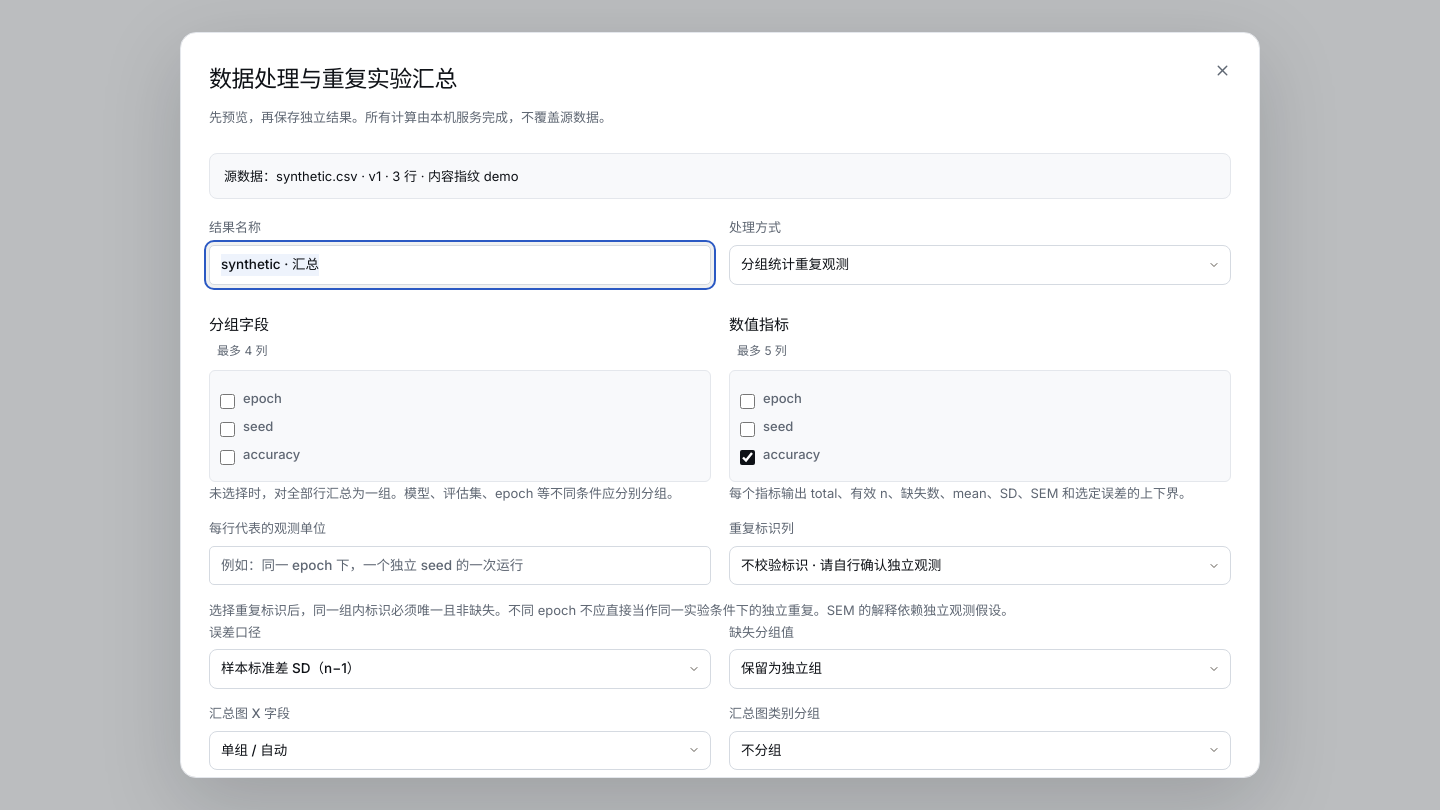
processing and chart contracts › displays parser/service errors without enabling save
Type "seed" into the field labelled "每行代表的观测单位" at {"x": 460, "y": 566}, box [209,546,711,585]
(page scrolled)
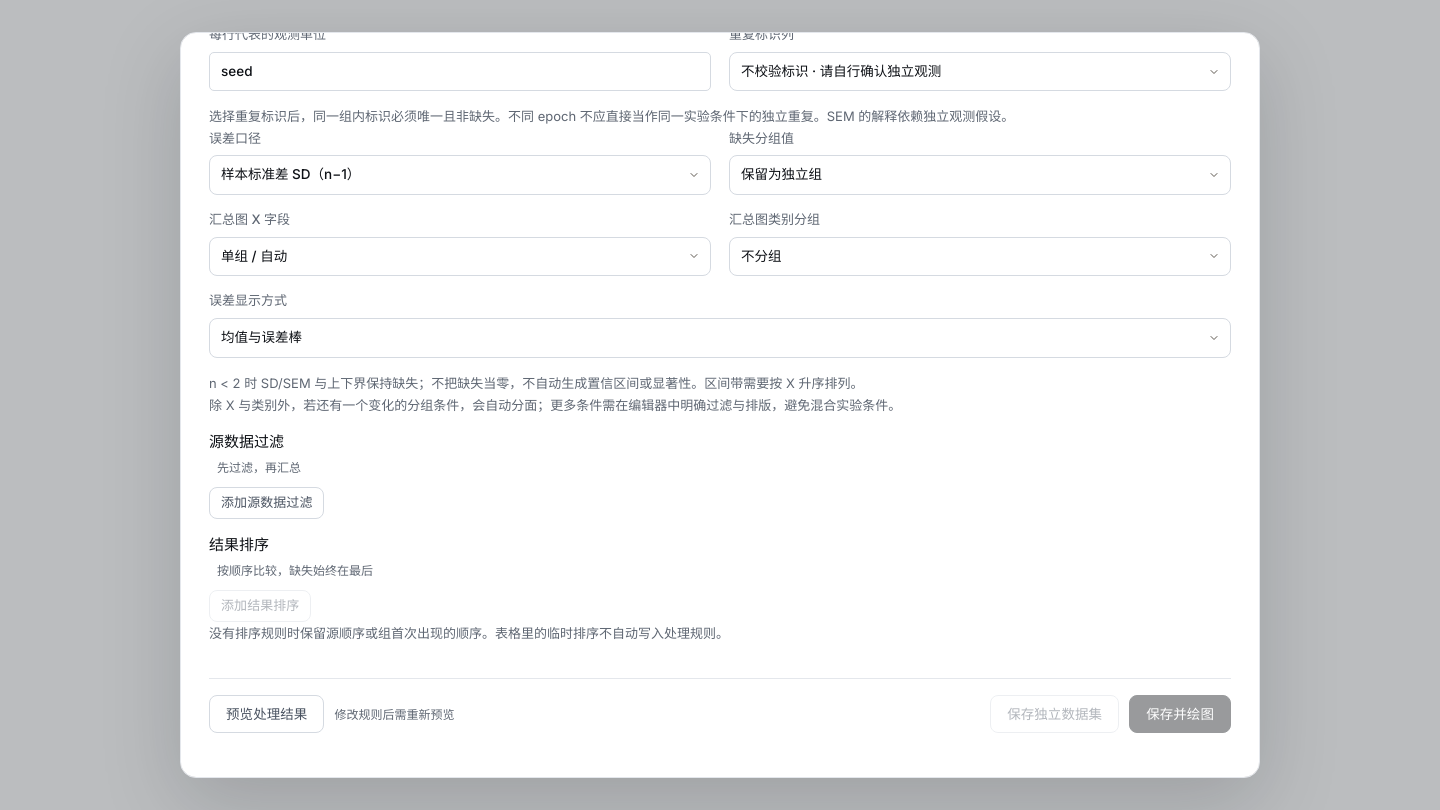
Click the button "预览处理结果" at {"x": 267, "y": 714}, box [209,695,324,733]
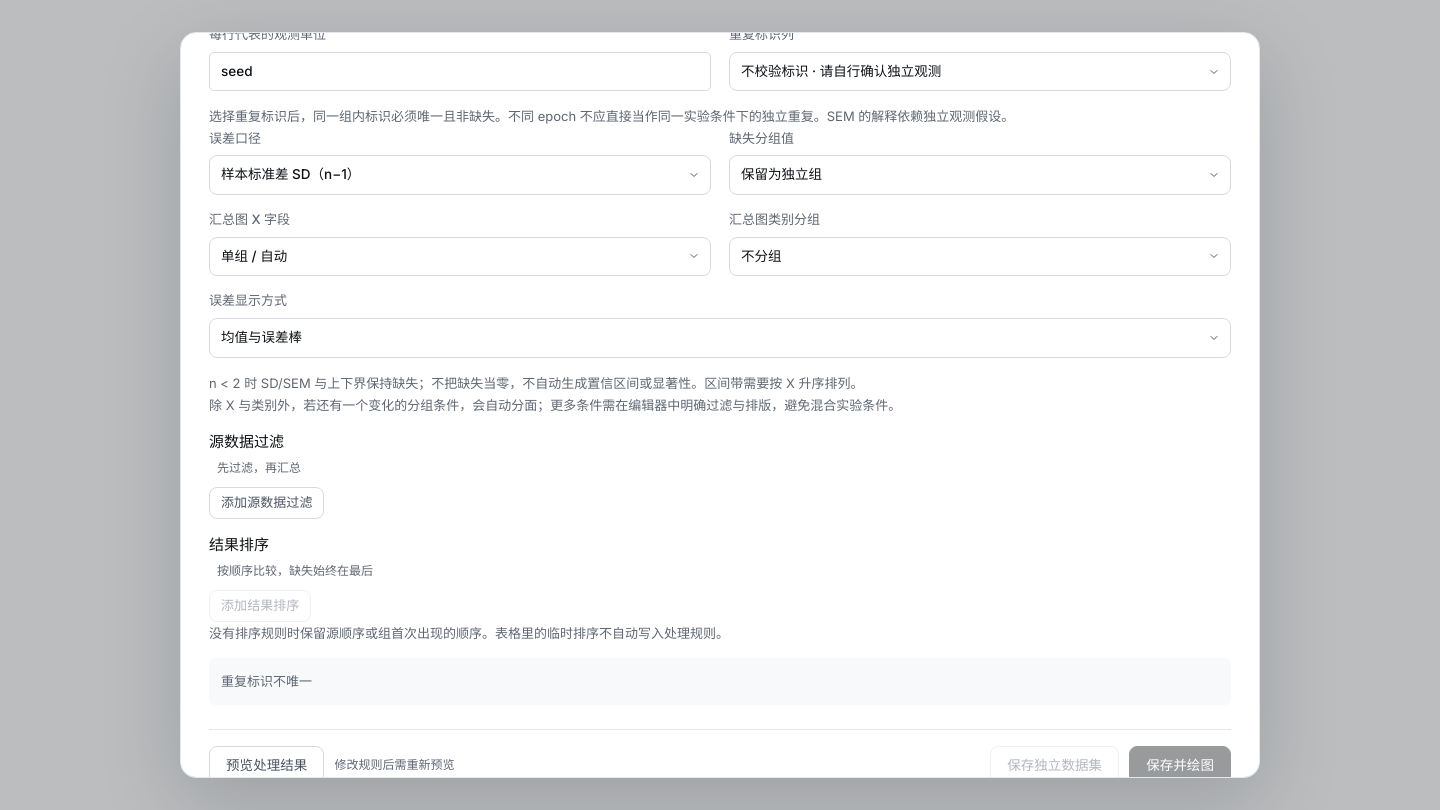
expect the button "保存并绘图" is disabled: met, box [1129,746,1231,778]
expect the message reads "重复标识不唯一": met, box [221,673,312,689]
